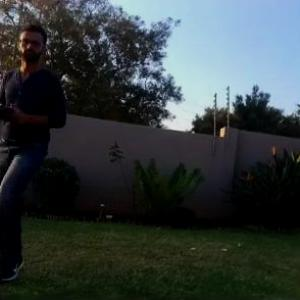follow: (0, 15, 71, 286)
